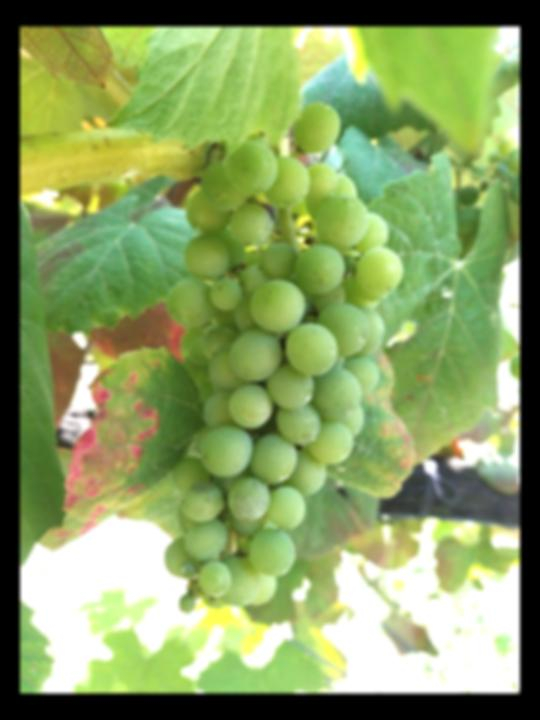grape: (163, 96, 405, 617)
